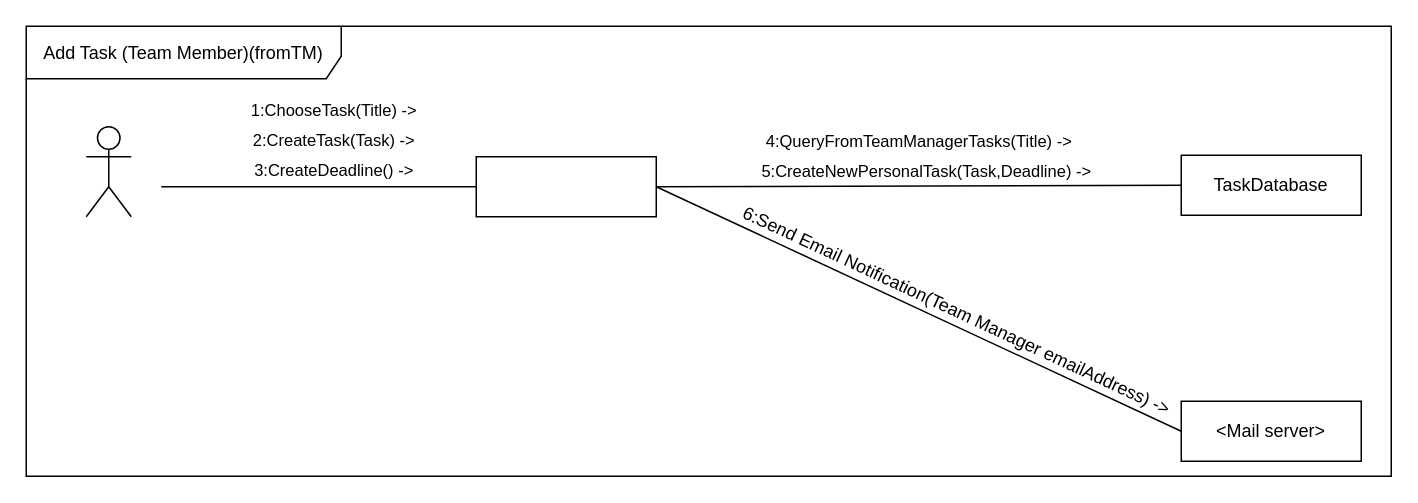
This 1418x503 diagram has some shape labels left out. The centre of each missing label's shape, as x and y in pixels:
System: [565,186]
Team Member: [108,171]
